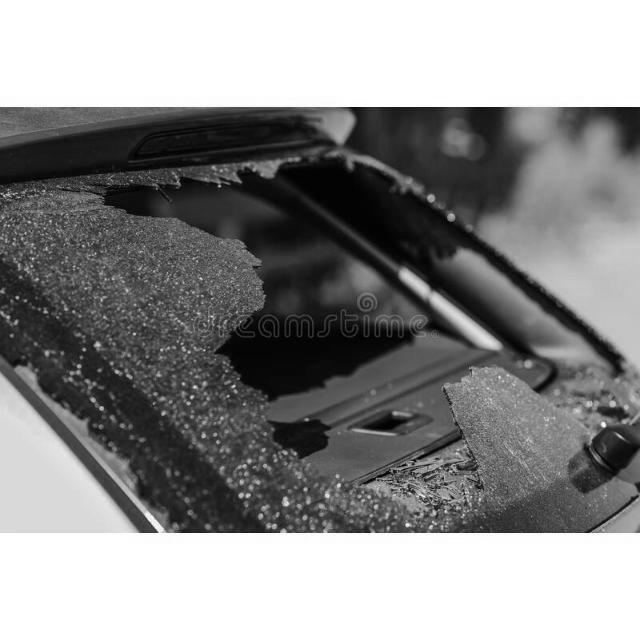Rear-windscreen-Damage: (0, 137, 636, 522)
